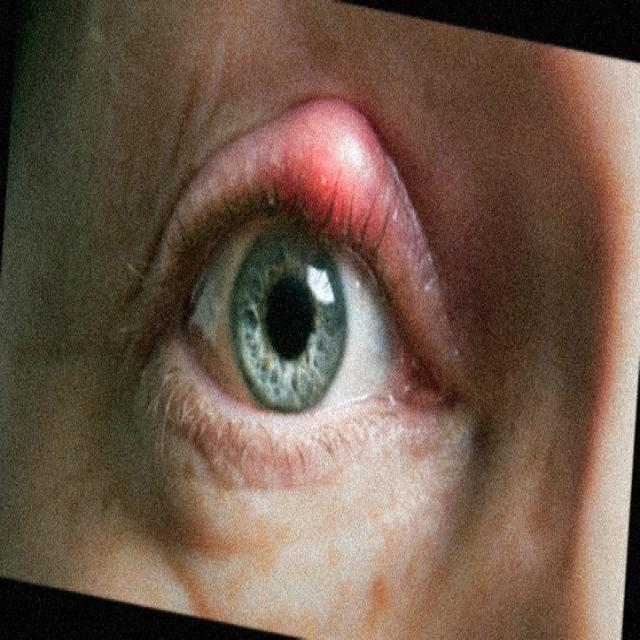Chalazion: (162, 107, 465, 503)
